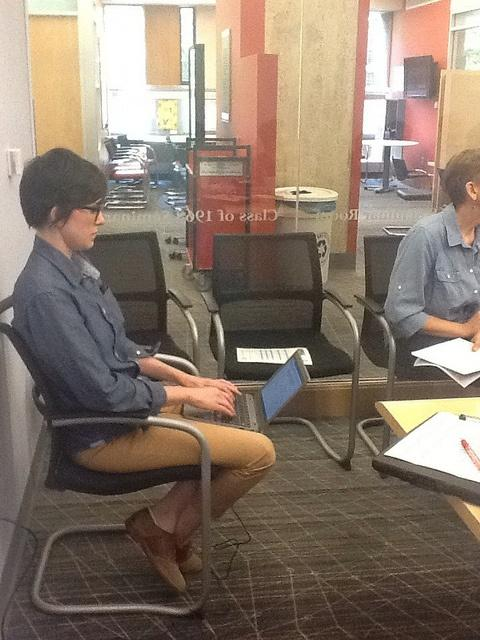Kursi: (0, 295, 213, 613), (201, 232, 358, 465), (88, 230, 201, 366)
